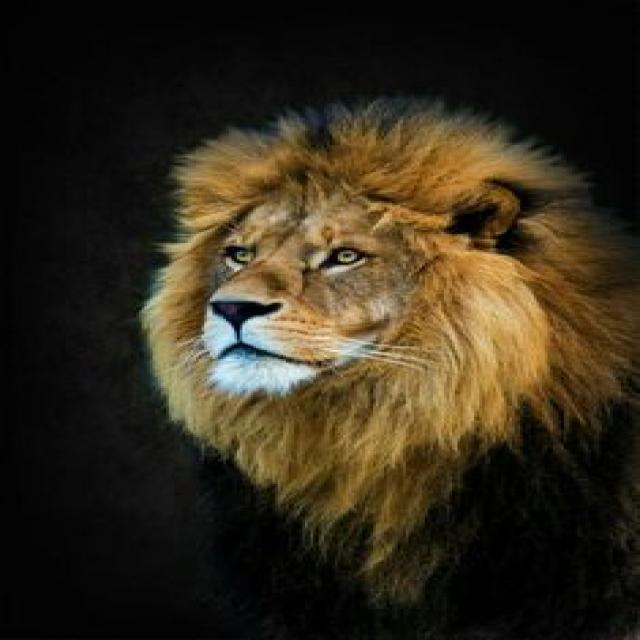lions: (73, 70, 640, 573)
